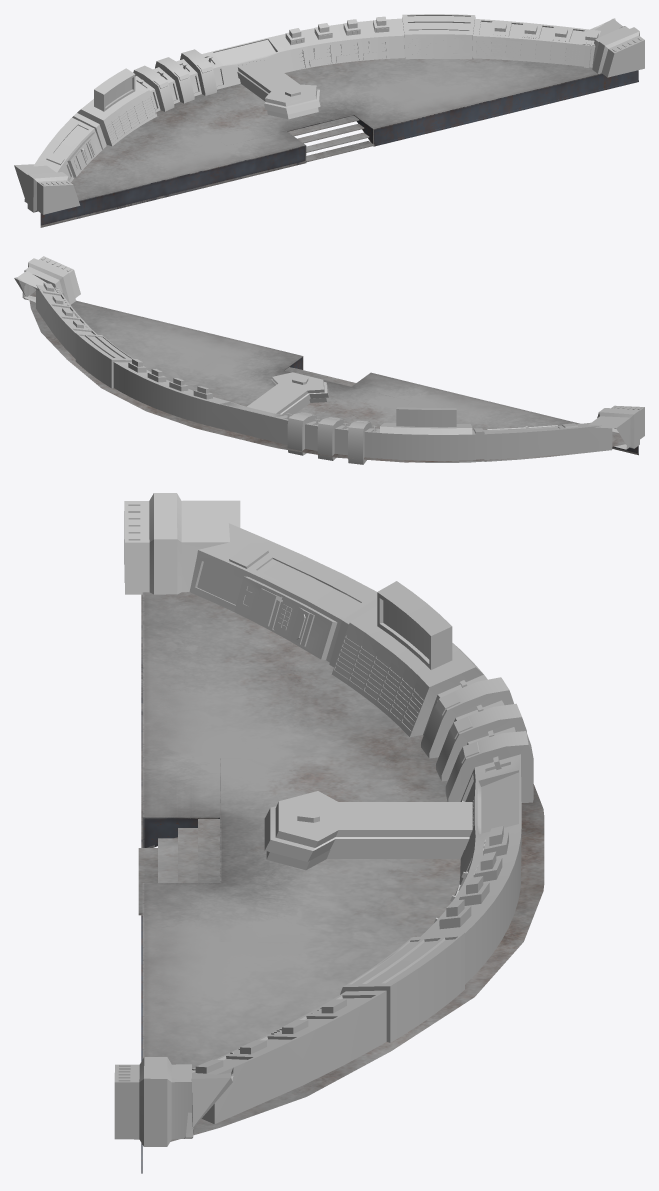
Rendered from ShipBridge.fbx.
3 views of the same model, one above another, from view 1: azimuth 30°, elevation 25°; view 2: azimuth 150°, elevation 25°; view 3: azimuth 270°, elevation 25° (orthographic). The views are drawn at different scales.
Parts seen in each view (by area): view 1: Plane.006, Cube.083; view 2: Cube.083, Plane.006; view 3: Plane.006, Cube.083.
Part boxes in pixels (<box>): Plane.006: <box>40,58,638,227</box>; Cube.083: <box>14,14,644,214</box>; Cube.083: <box>14,256,644,464</box>; Plane.006: <box>29,291,638,462</box>; Plane.006: <box>138,592,544,1173</box>; Cube.083: <box>114,493,533,1146</box>.
Size of the model in its own units: 1834 by 183 by 565.
